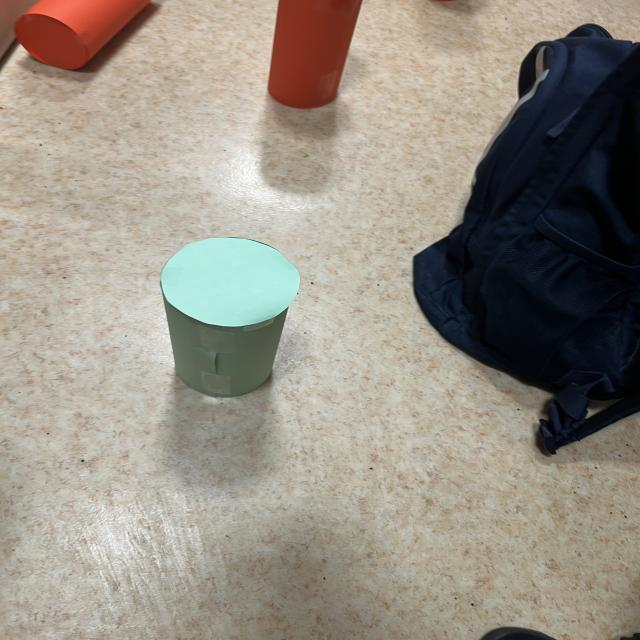meta: (161, 238, 299, 397)
przeszkoda: (268, 0, 362, 108), (14, 0, 149, 69)
